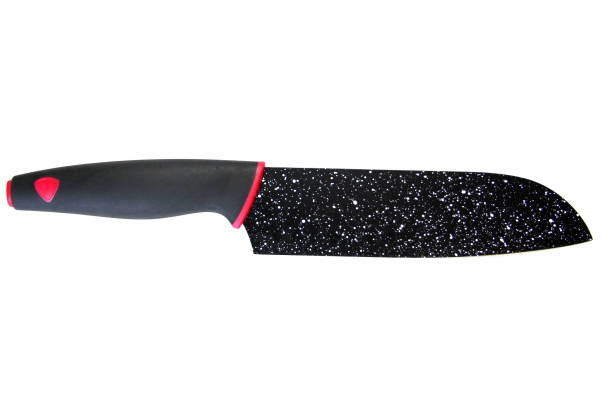knife: (3, 157, 594, 261)
